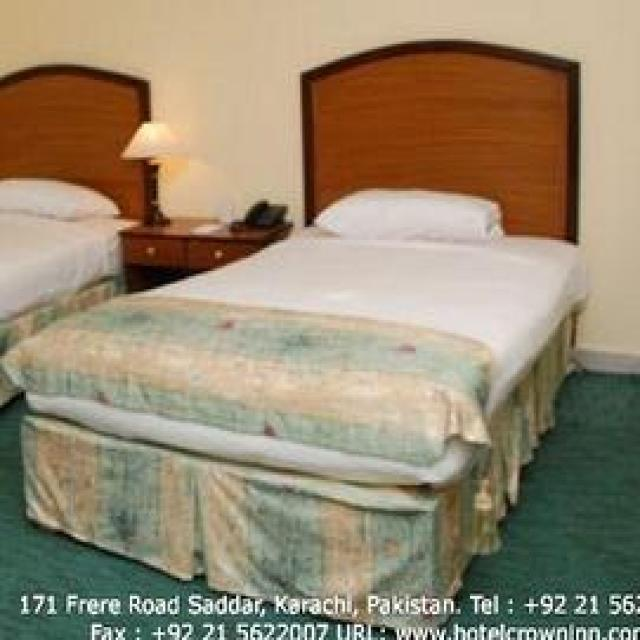bed: (0, 36, 588, 635)
